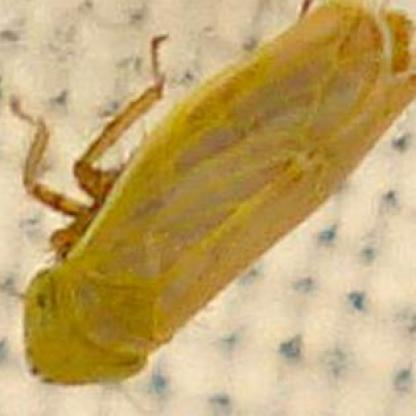green-leafhopper: (27, 3, 409, 388)
